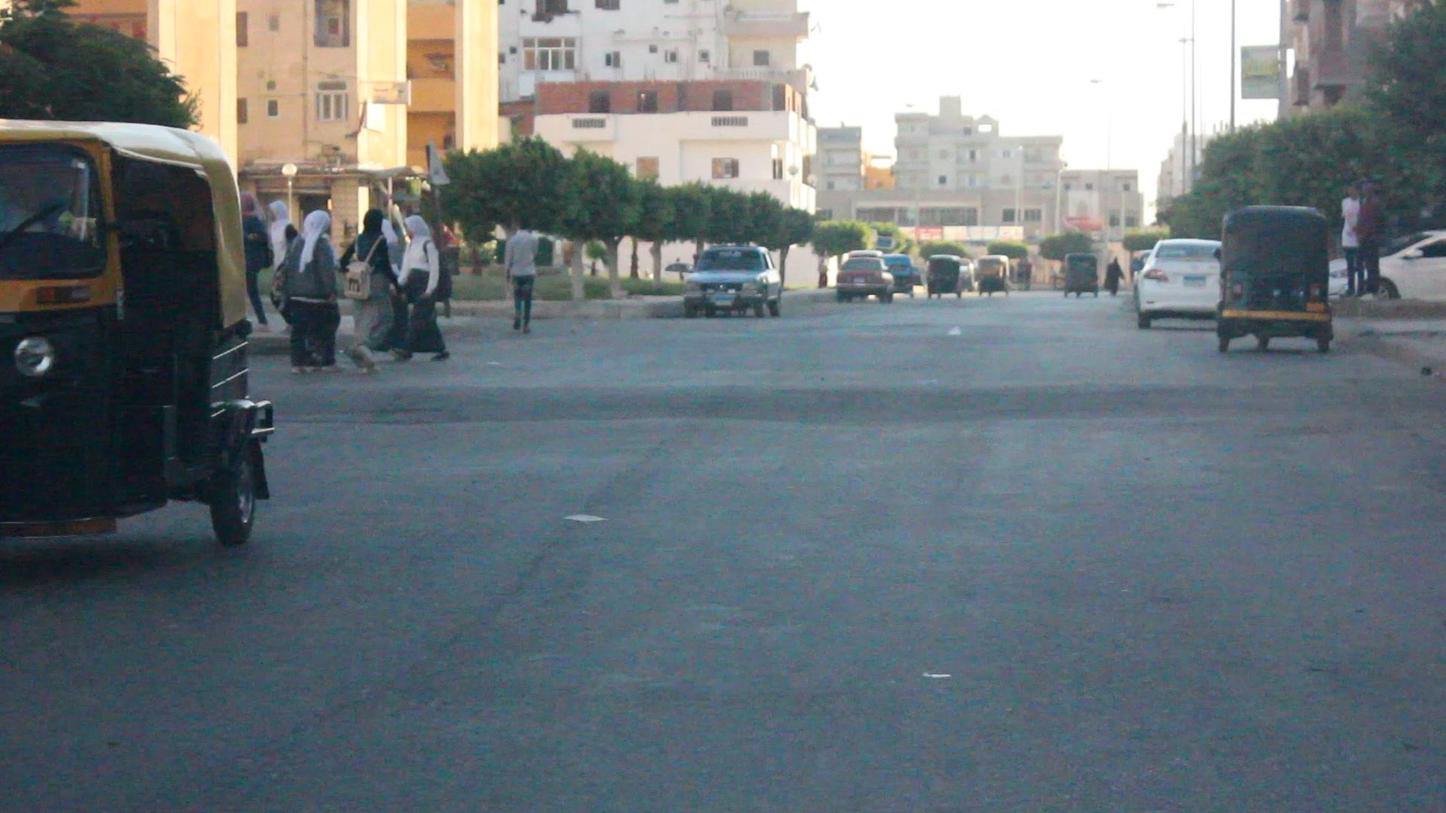Bump: (284, 375, 1446, 444)
